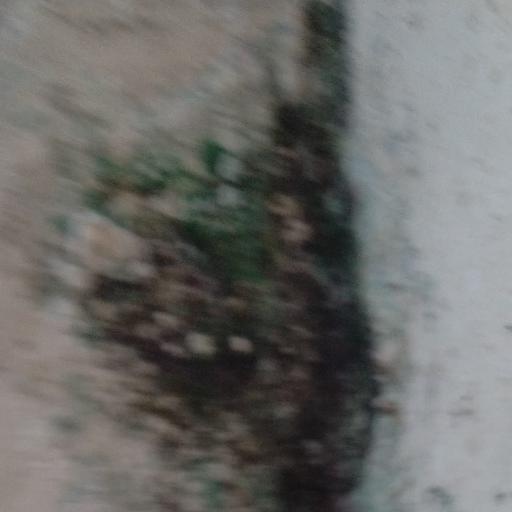algae: (54, 0, 404, 512)
